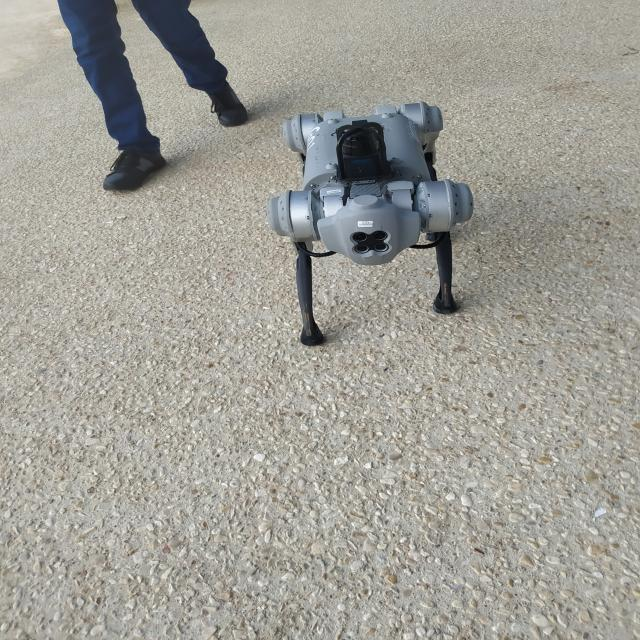unitree-go1-robot: (288, 96, 468, 350)
